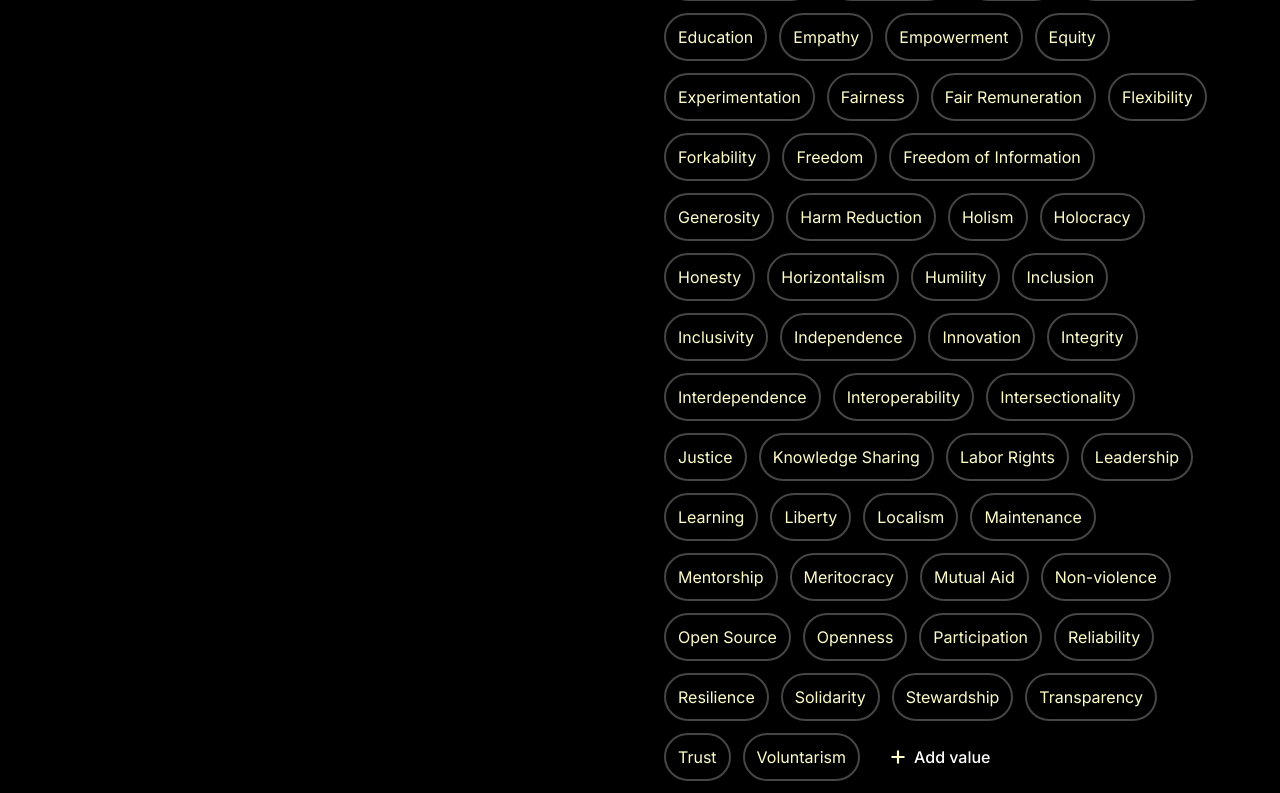
Scenario: CoreValuesSelectScreen › custom chip — confirmed vs dismissed › removes the custom chip when its modal is dismissed without Add Value
(page scrolled)
Click the button "Add value". click: (939, 757)
box: [872, 735, 1006, 779]
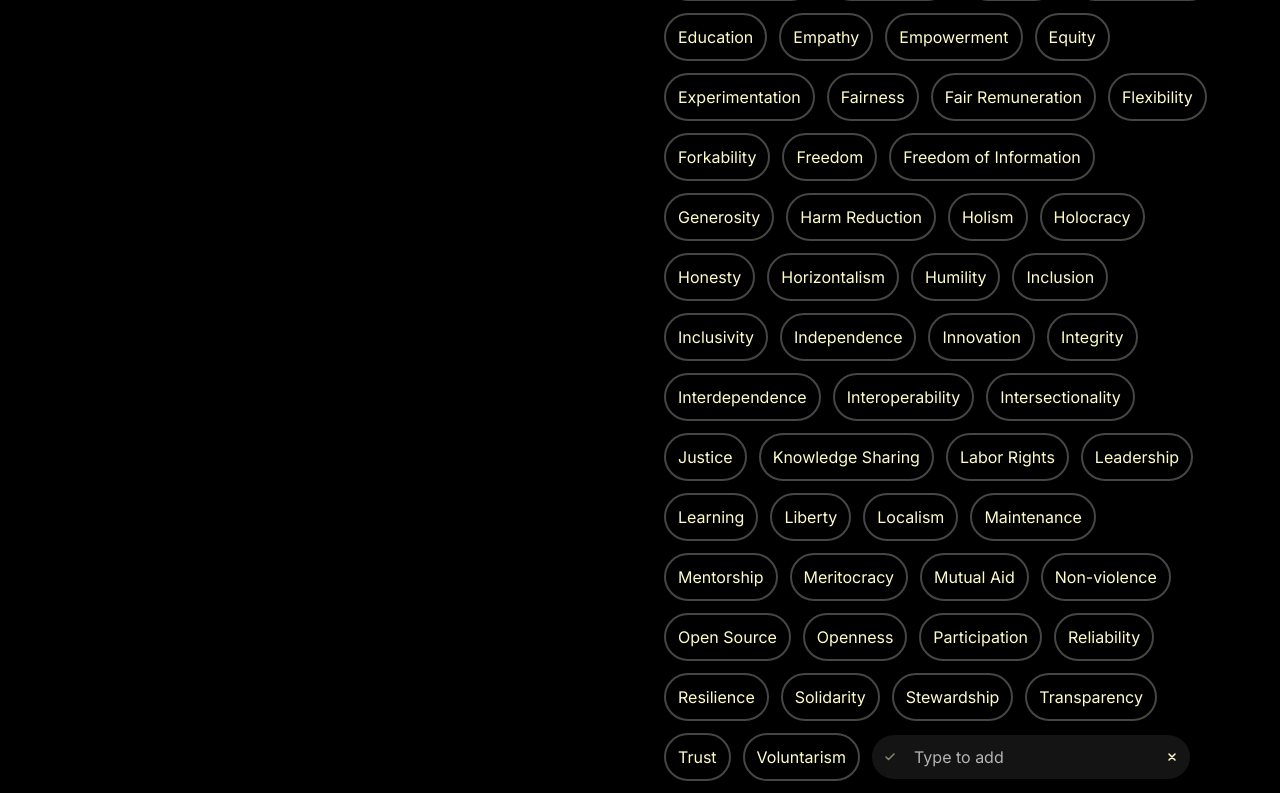
Type "ZZTopBespokeValue" into the field with placeholder "Type to add". click: (1031, 757)
box: [914, 745, 1148, 769]
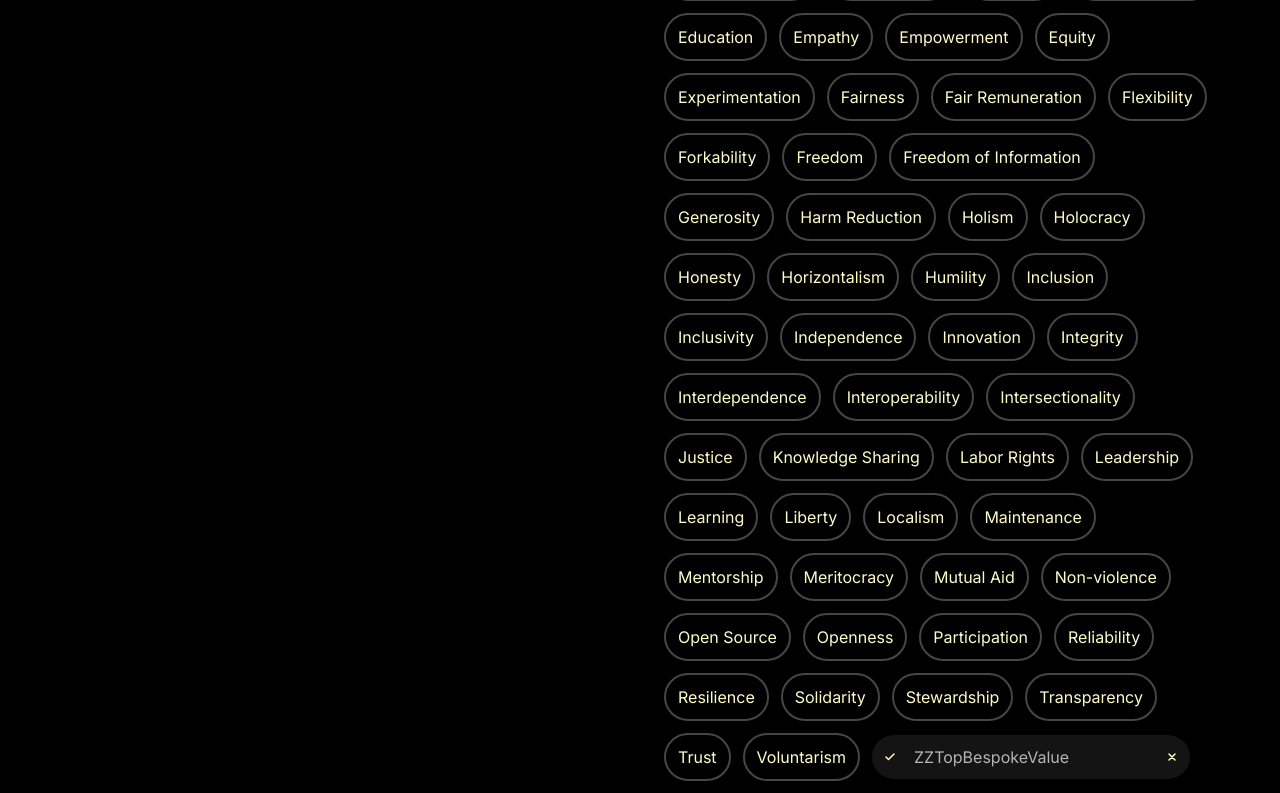
Click the button named "Confirm". click: (890, 757)
box: [878, 745, 902, 769]
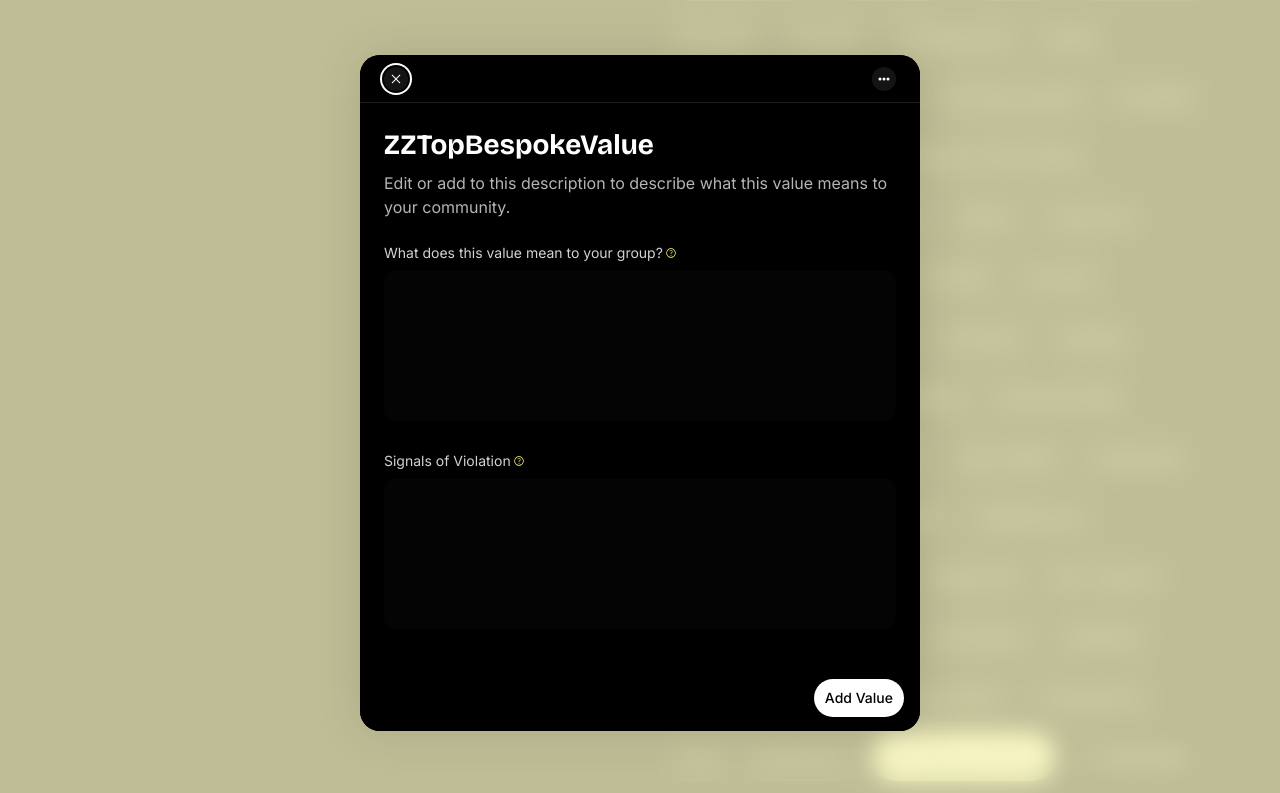
Press Escape
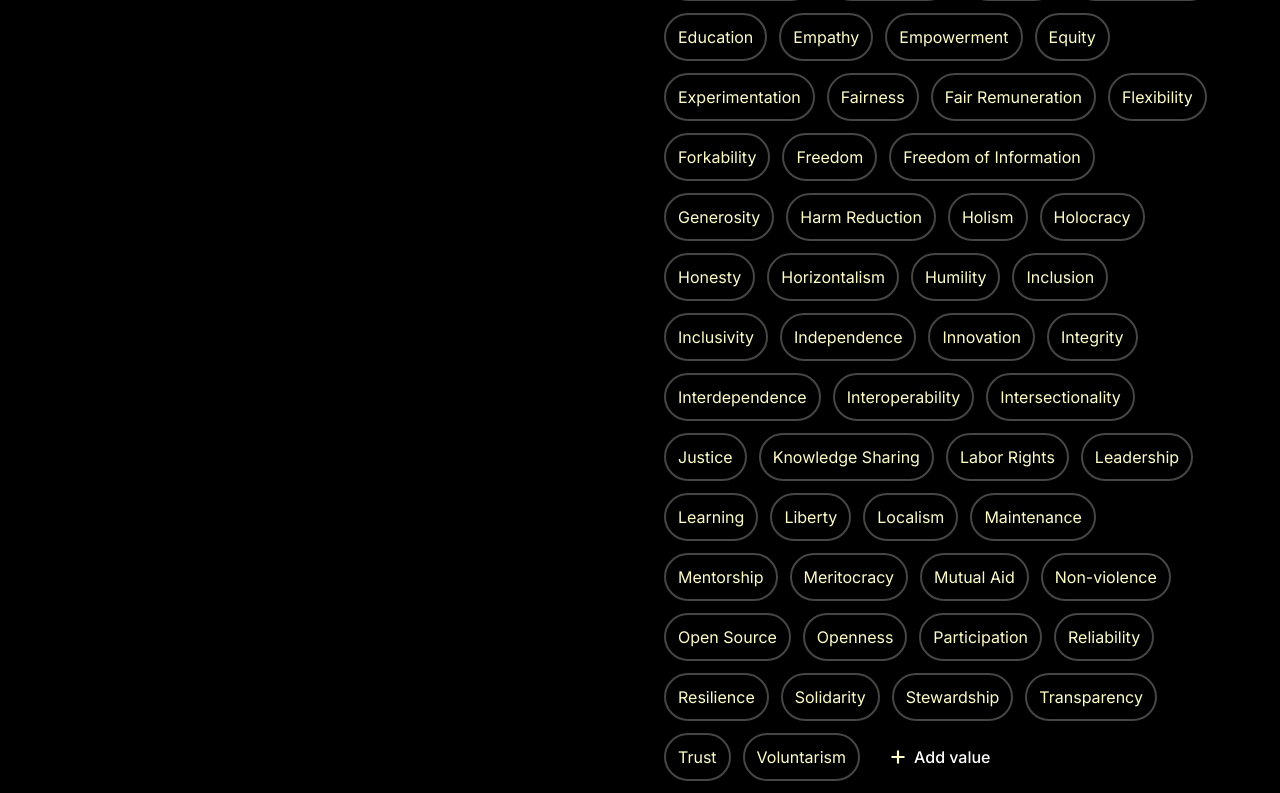
Expected: the dialog is gone
